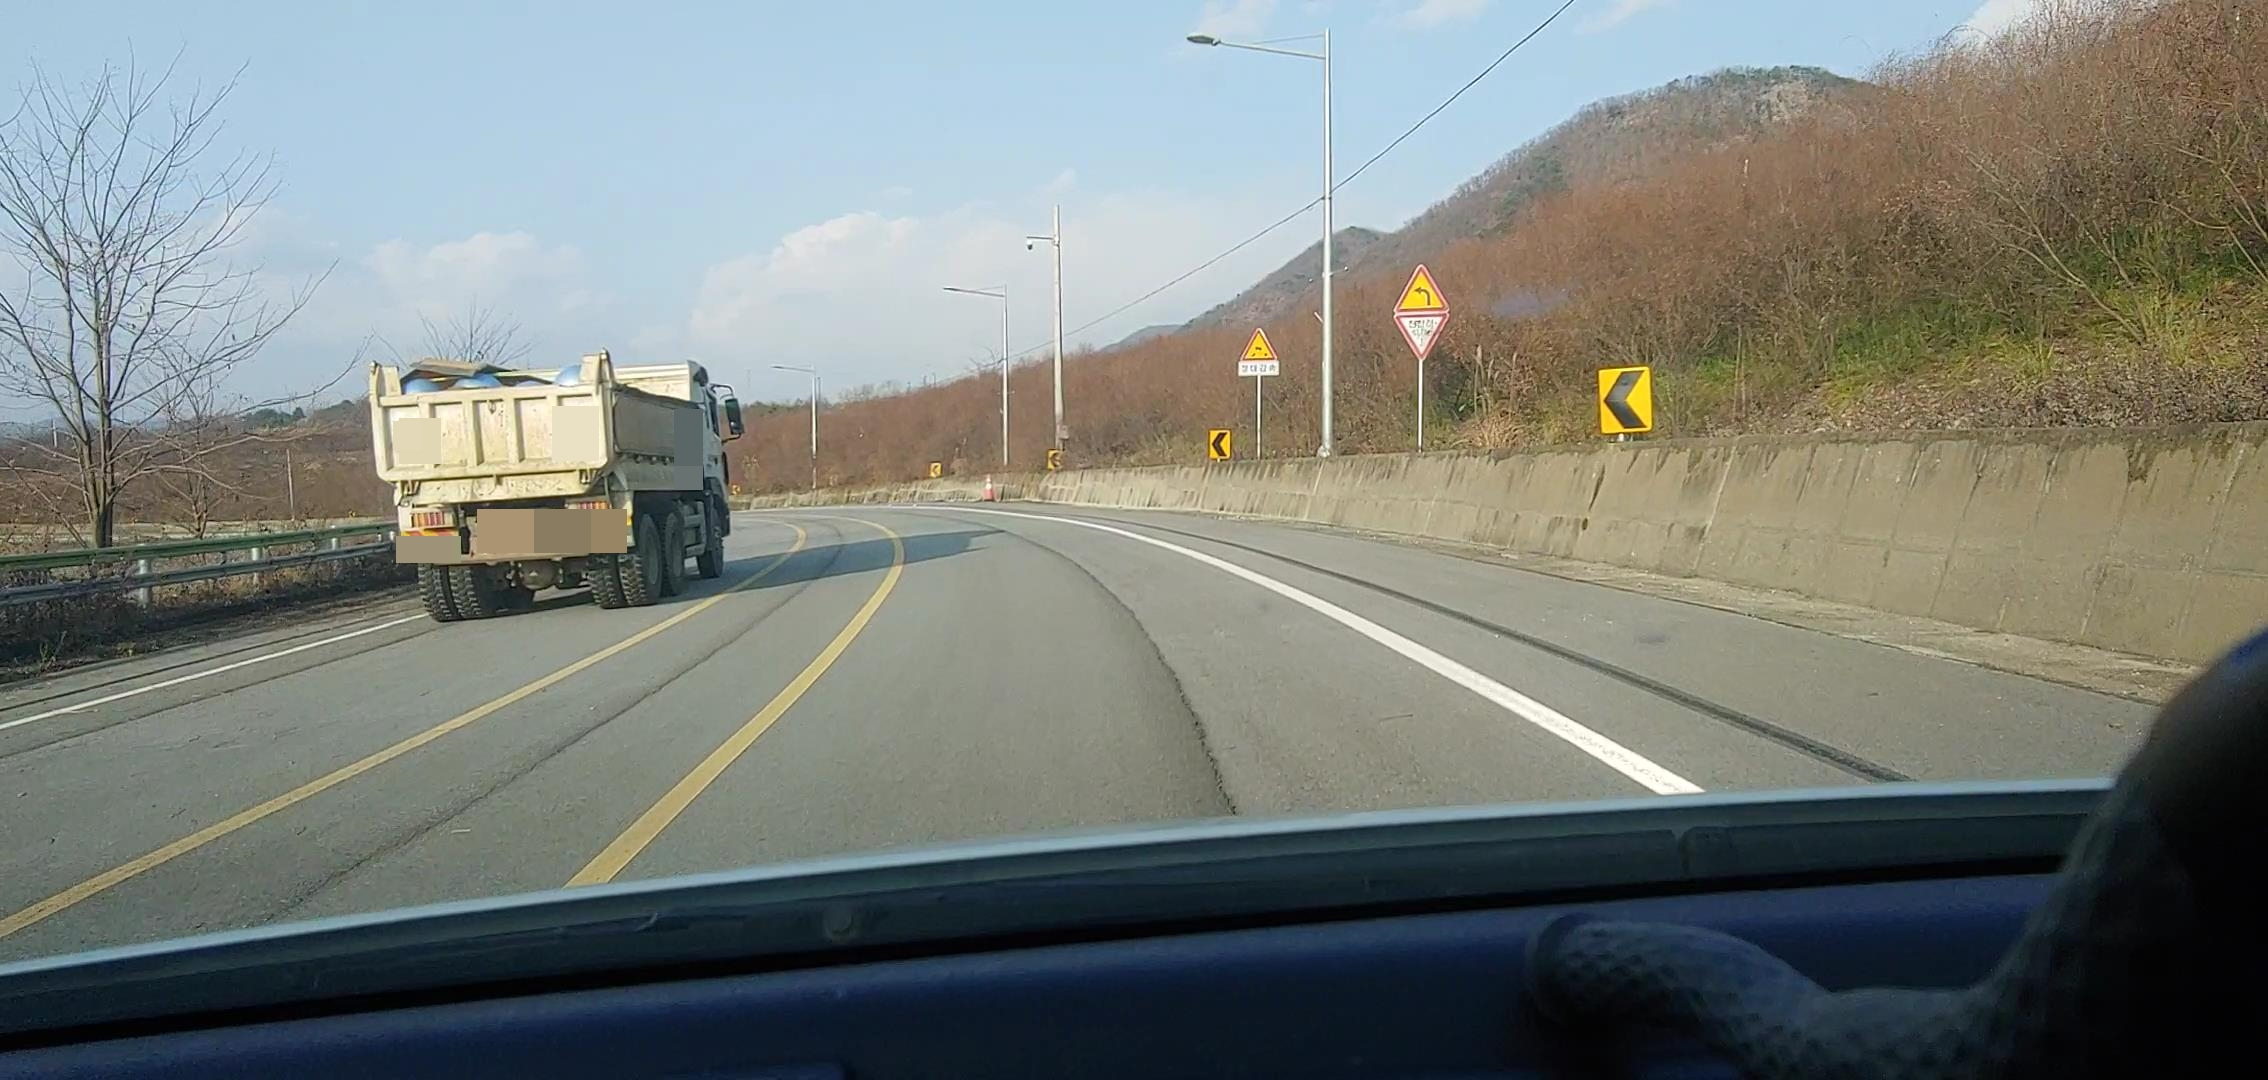불법차량: (368, 347, 746, 622)
